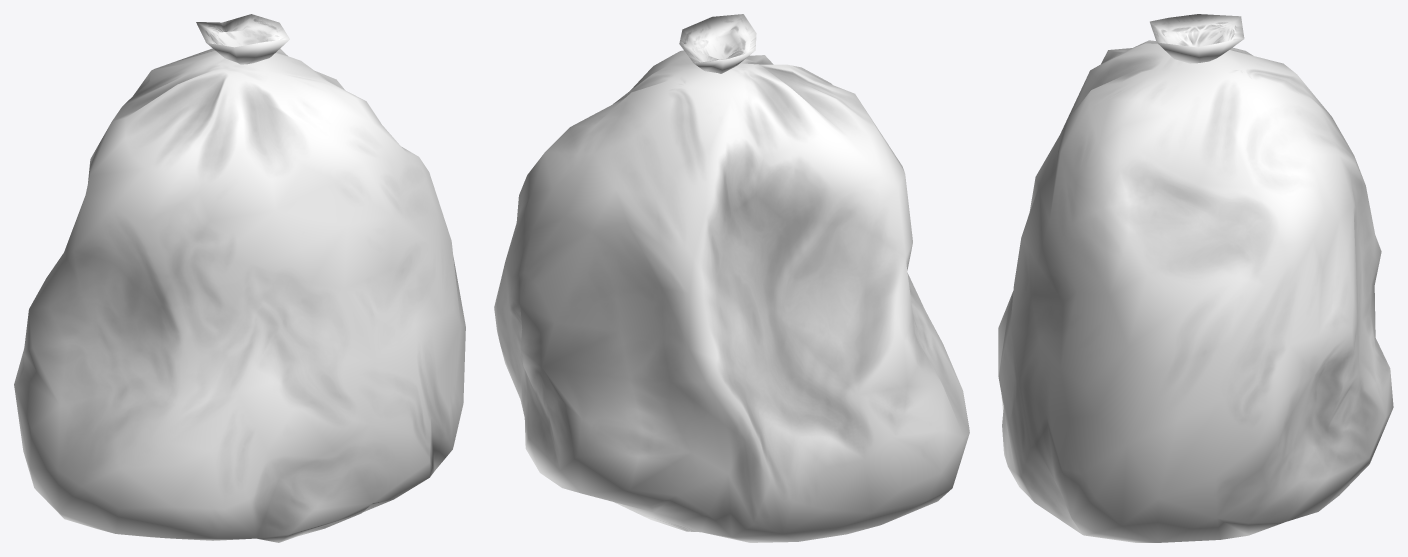
File: Trashbag_Low.fbx
The picture shows the model from 3 angles, left to right: view 1: azimuth 30°, elevation 25°; view 2: azimuth 150°, elevation 25°; view 3: azimuth 270°, elevation 25°; orthographic projection.
Parts seen in each view (by area): view 1: Trashbag_Low; view 2: Trashbag_Low; view 3: Trashbag_Low.
Boxes of the visible parts, box(x1,y1,x2,y2) form: Trashbag_Low: box(14, 14, 465, 542); Trashbag_Low: box(494, 14, 969, 542); Trashbag_Low: box(998, 14, 1393, 542).
Size of the model in its own units: 53.58 by 57.24 by 43.64.
Materials: 1 (1 with a texture image).
